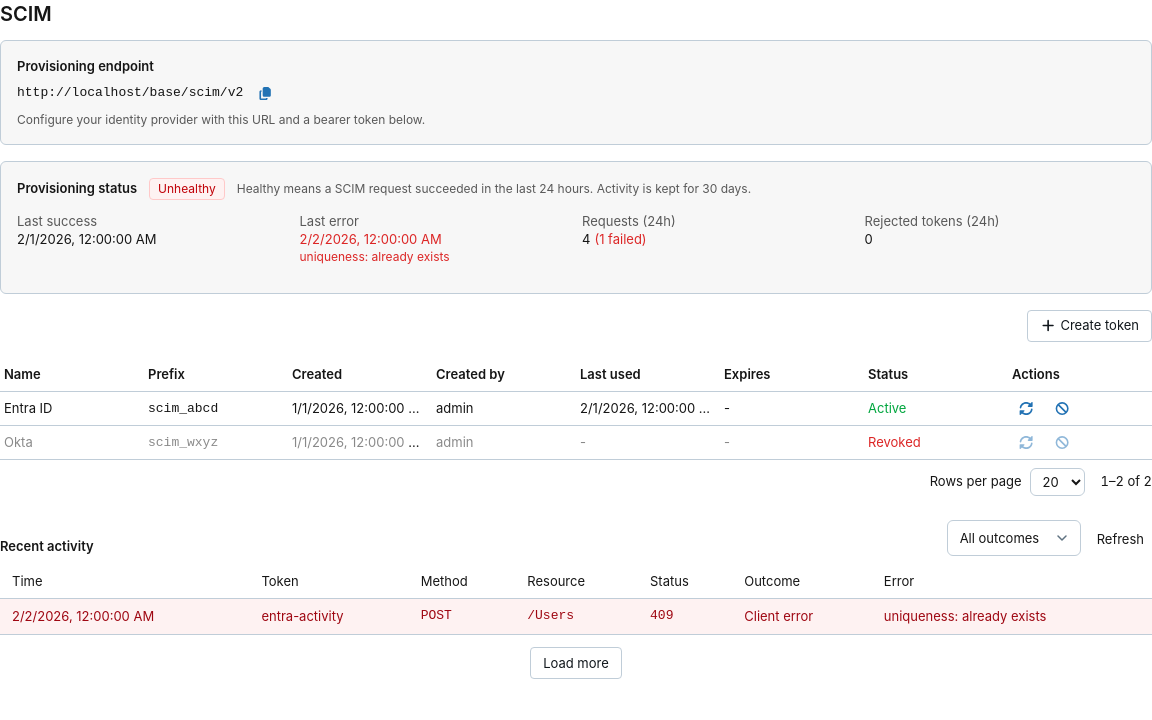
Test case: ScimPage › creates a token and shows the plaintext exactly once
Step 1. Click the button "Create token" → (1090,326), box [1027, 310, 1151, 342]
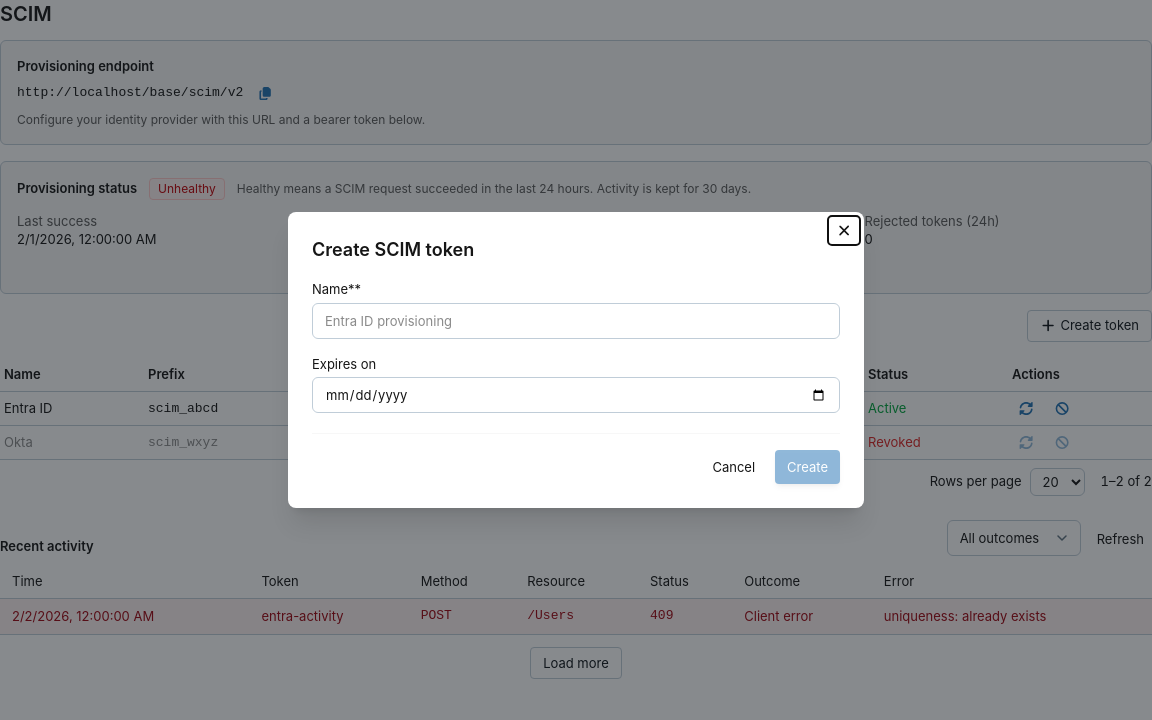
Step 2. Type "New Token" into the field labelled "Name**" → (576,320), box [312, 302, 840, 338]
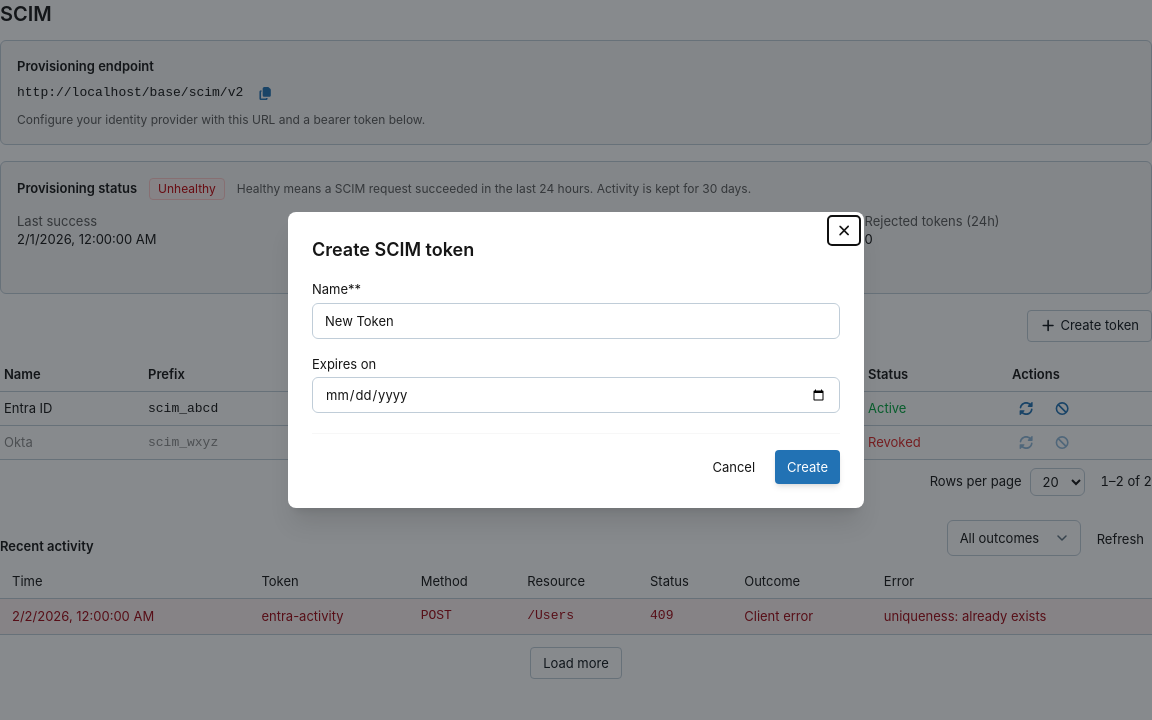
Step 3. Click the button "Create" → (808,467), box [775, 450, 840, 484]
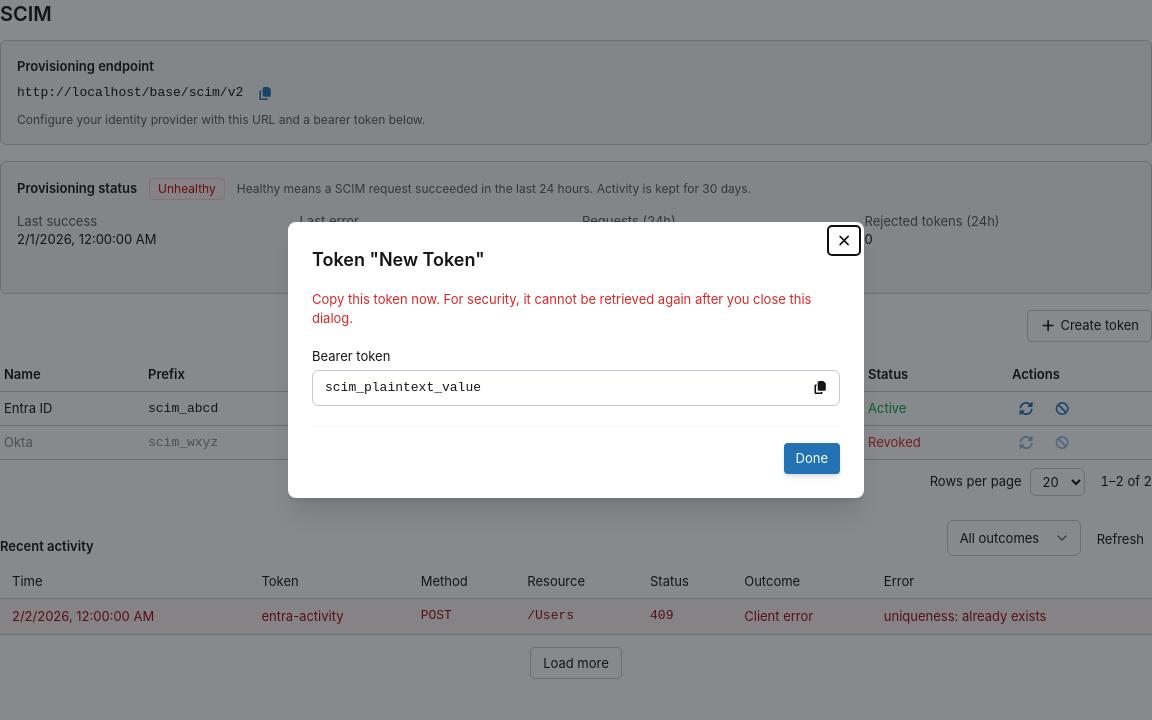
Now the number of fields showing "scim_plaintext_value" is 1, box [312, 370, 840, 406]
